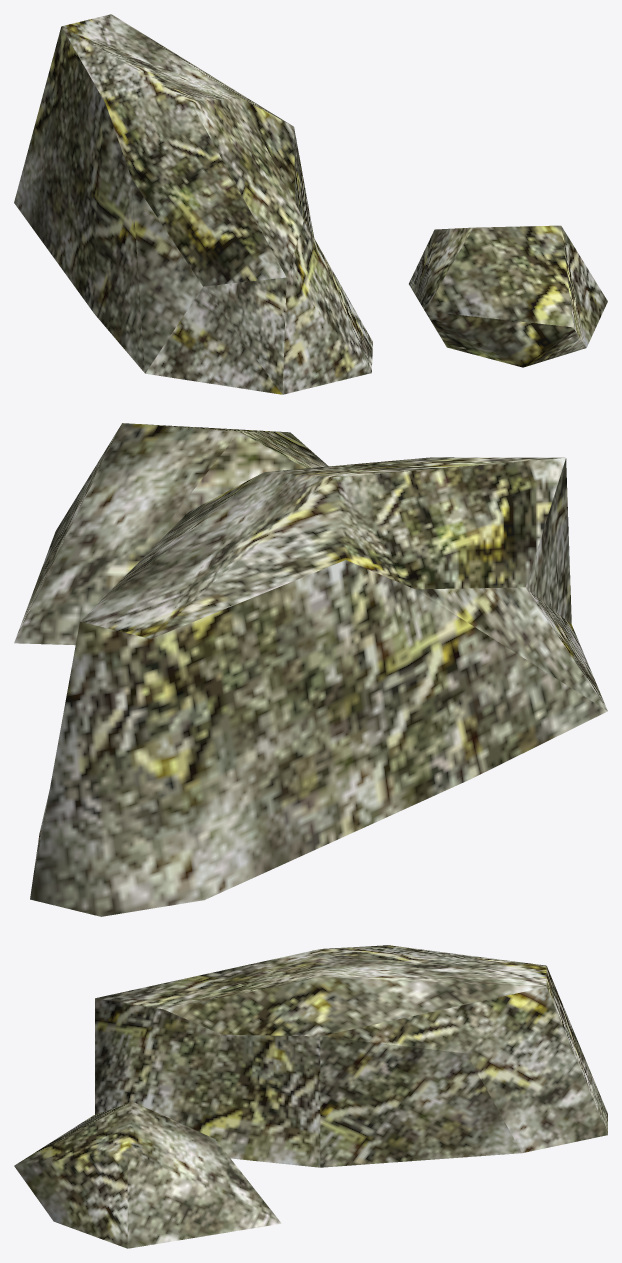
The model's file is gold_vein.glb.
3 views of the same model, one above another, from view 1: azimuth 30°, elevation 25°; view 2: azimuth 150°, elevation 25°; view 3: azimuth 270°, elevation 25° (orthographic). The views are drawn at different scales.
Parts seen in each view (by area): view 1: gold_vein_part0; view 2: gold_vein_part0; view 3: gold_vein_part0.
Part boxes in pixels (<box>): gold_vein_part0: <box>14,14,607,394</box>; gold_vein_part0: <box>14,423,607,916</box>; gold_vein_part0: <box>14,945,607,1248</box>.
Size of the model in its own units: 1.3 by 0.5649 by 1.8.
Materials: 1 (1 with a texture image).
